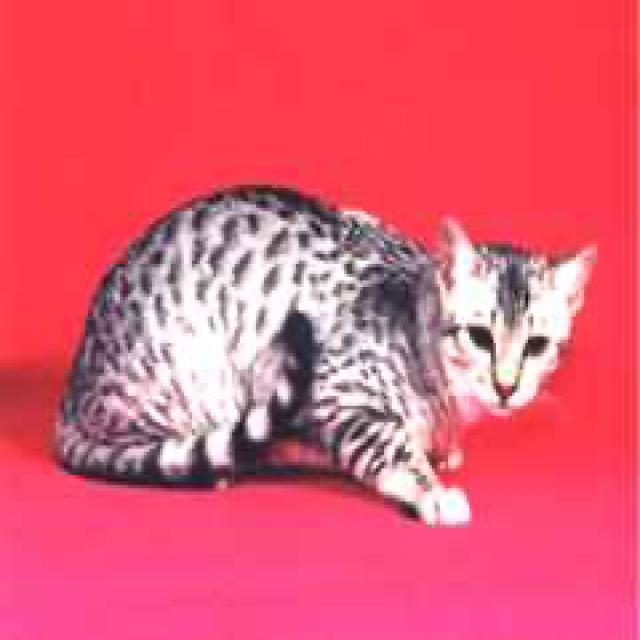cat: (437, 211, 595, 416)
